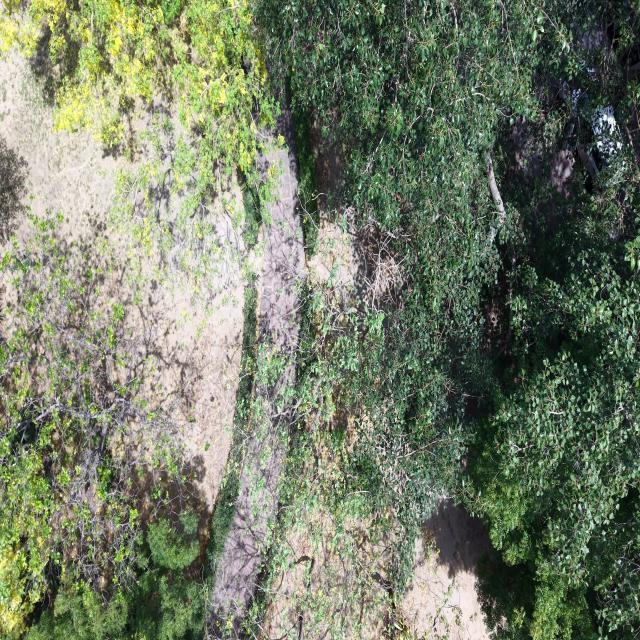DRY_AREA: (0, 53, 243, 510), (105, 254, 242, 505), (260, 501, 491, 639), (0, 52, 118, 240), (208, 408, 290, 637), (398, 500, 493, 639), (399, 500, 493, 639), (402, 501, 492, 639), (259, 111, 304, 384)
PATHWAYS: (207, 108, 304, 637)
VEGETATION_TREE: (0, 0, 639, 639), (262, 2, 639, 638), (261, 0, 563, 589), (0, 216, 257, 639), (468, 80, 639, 638), (0, 219, 210, 638), (0, 0, 275, 297), (0, 217, 186, 637), (467, 198, 639, 638), (0, 0, 271, 181), (26, 512, 204, 639), (0, 138, 26, 241)
